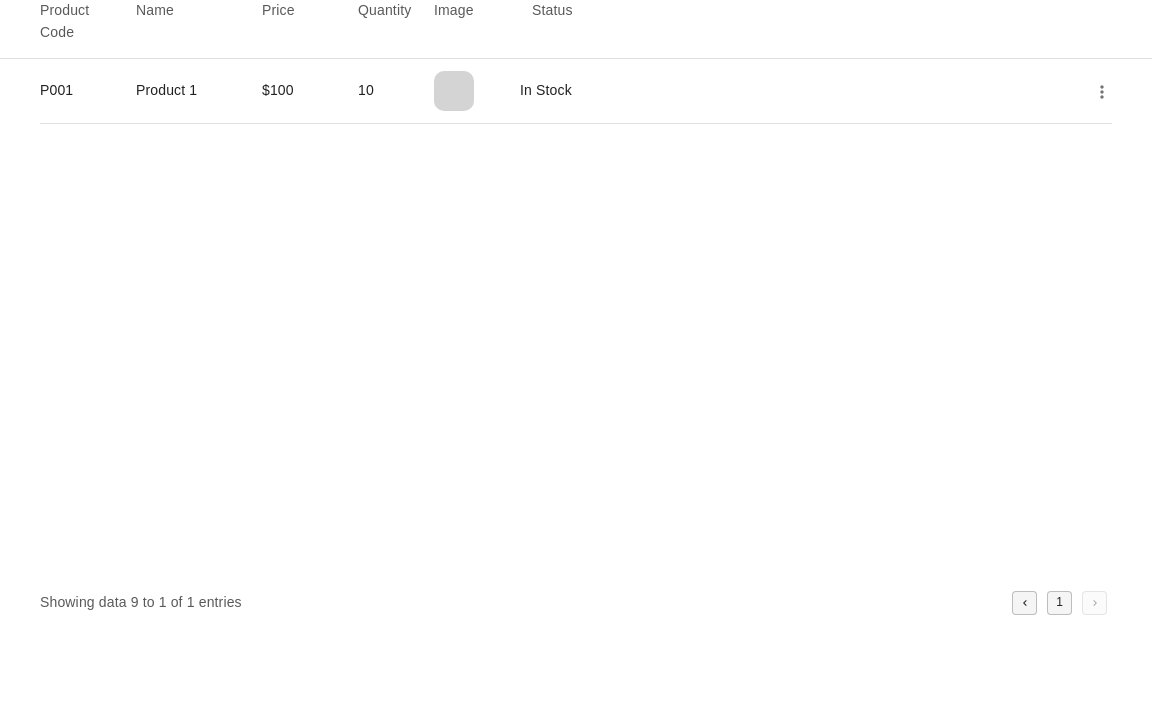
ListItemProduct component › Should handle opening and closing Update Modal
Note: Click open menu
Click the button with test id "button-more-menu" at (1102, 92), box [1092,82,1112,102]
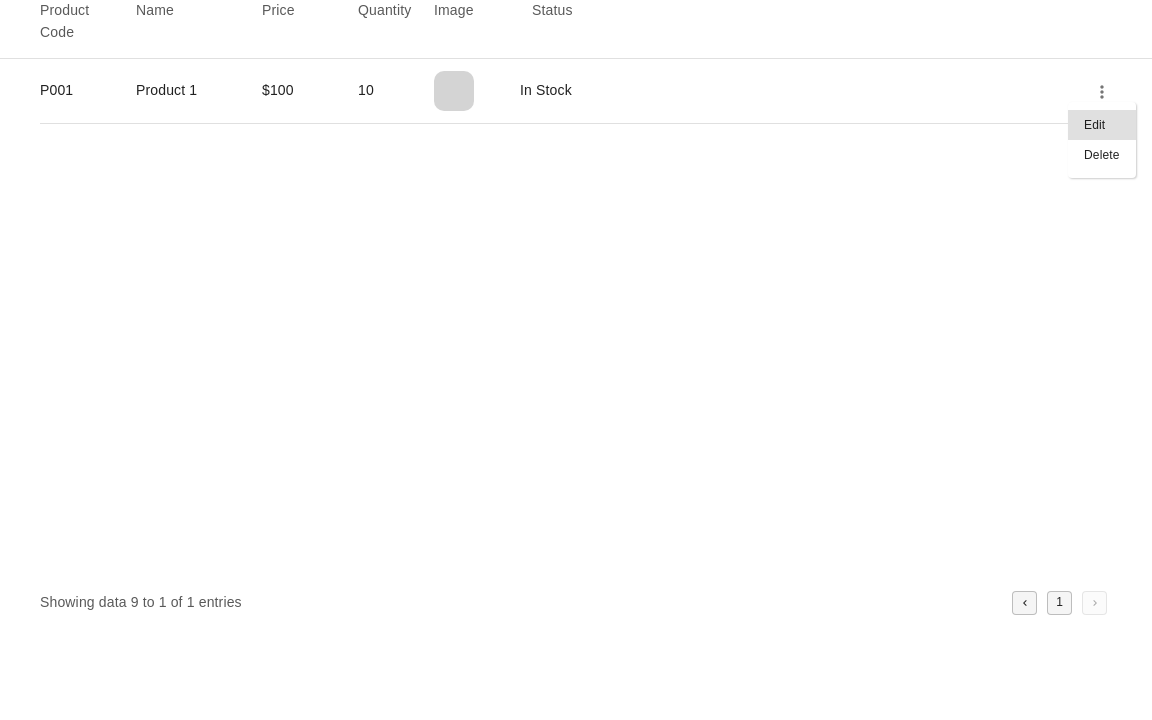
Click the menu item "Edit" at (1102, 125), box [1068,110,1136,140]
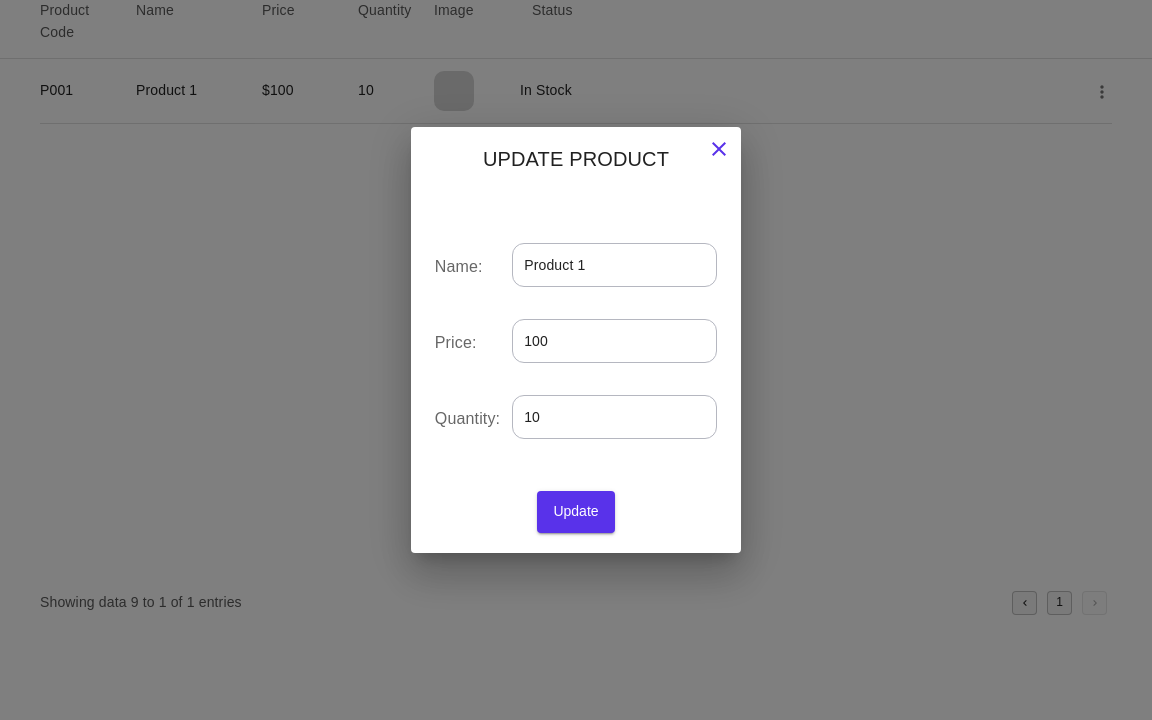
Expected: the heading "UPDATE PRODUCT" is shown, [483,148,669,170]
Note: Close modal
Click the button with test id "close-modal-button" at (719, 149), box [706,137,731,161]
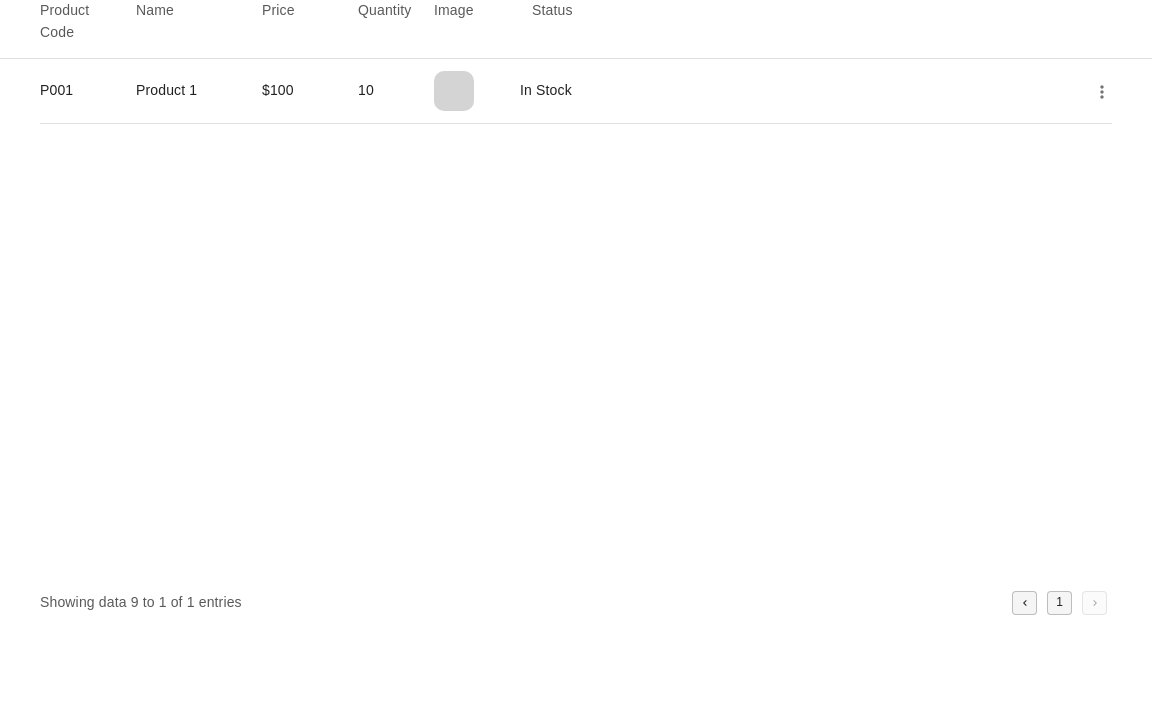
Expected: the heading "UPDATE PRODUCT" is gone
